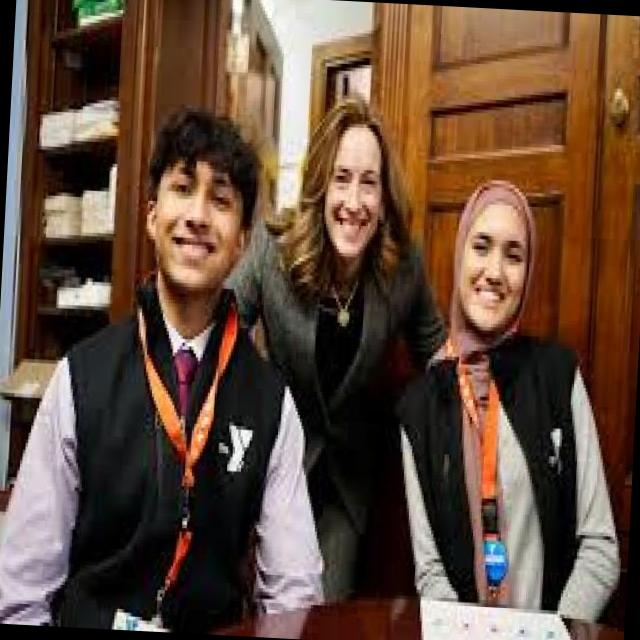id_card: (113, 308, 236, 635), (447, 341, 530, 606)
